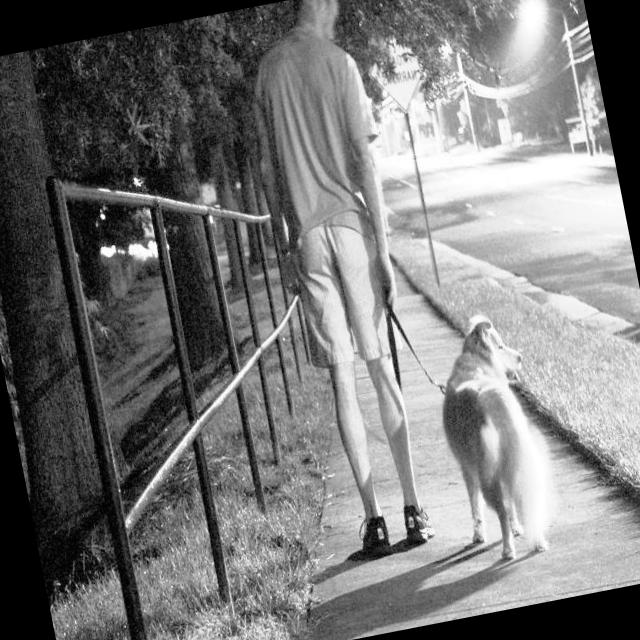Dog: (395, 302, 604, 620)
Person: (207, 0, 476, 613)
